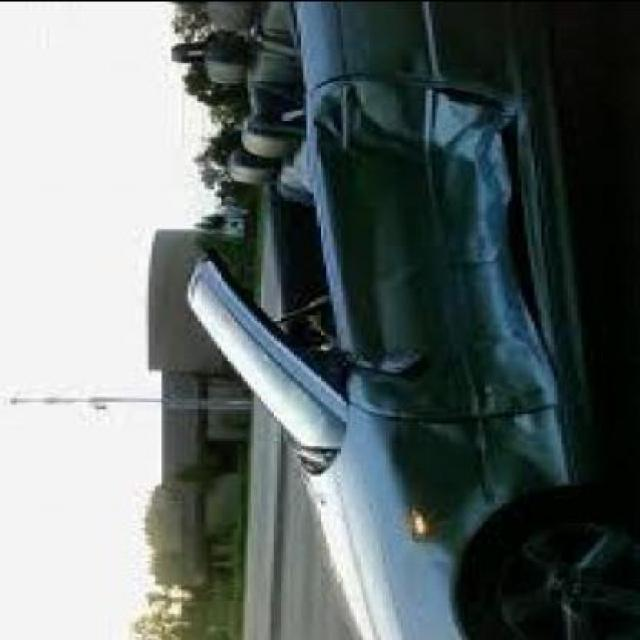damage: (300, 40, 590, 564)
